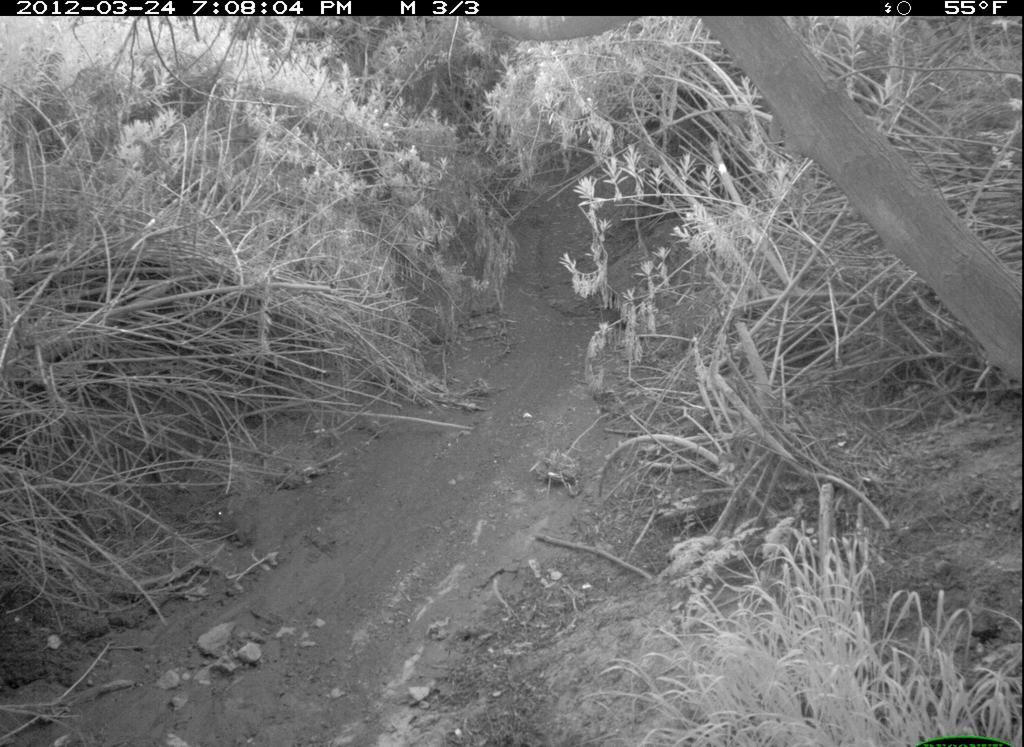rabbit: (212, 505, 264, 552)
